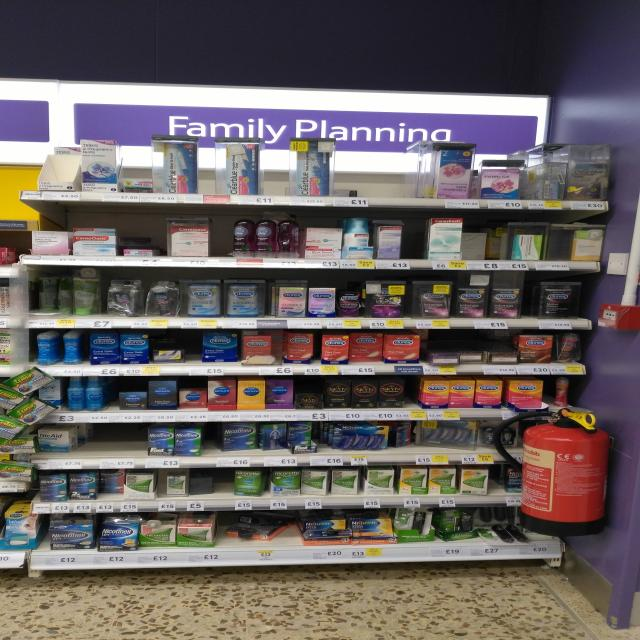void: (337, 133, 414, 195), (92, 425, 142, 456), (198, 470, 230, 498)
